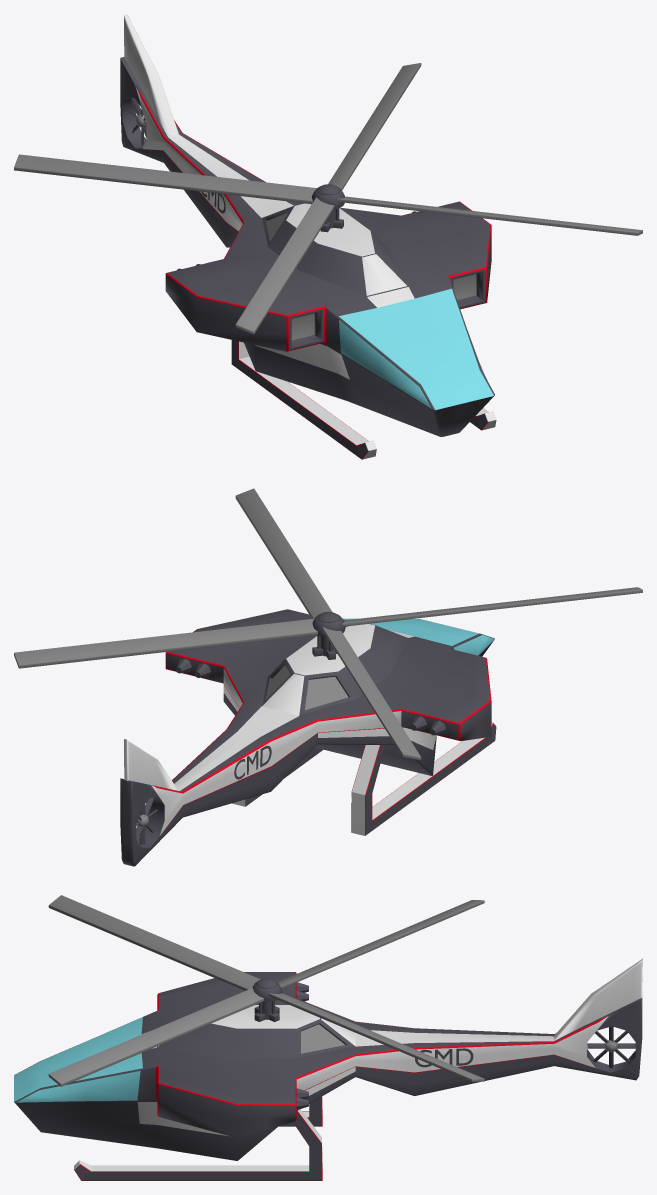
Rendered from Helicopter_01.fbx.
The picture shows the model from 3 angles, top to bottom: view 1: azimuth 30°, elevation 25°; view 2: azimuth 150°, elevation 25°; view 3: azimuth 270°, elevation 25°; orthographic projection. The views are drawn at different scales.
Parts seen in each view (by area): view 1: Body, Propeller_Top; view 2: Body, Propeller_Top; view 3: Body, Propeller_Top, Propeller_Back.
Part boxes in pixels (x1,y1,x2,y2): Body: (120, 14, 496, 459); Propeller_Top: (14, 63, 642, 334); Body: (120, 609, 496, 866); Propeller_Top: (14, 488, 642, 759); Body: (14, 958, 642, 1180); Propeller_Top: (48, 895, 484, 1086); Propeller_Back: (587, 1026, 635, 1068).
Size of the model in its own units: 1088 by 529 by 1570.
